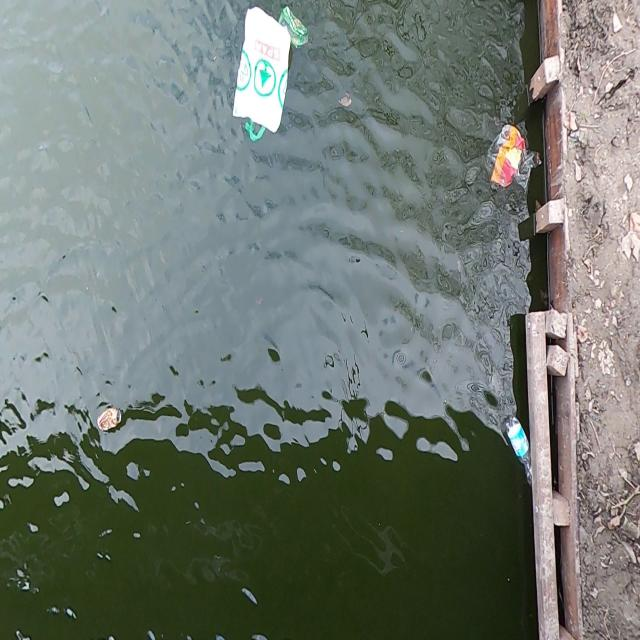Non plastique: (95, 404, 124, 439)
Sac plastique: (231, 3, 290, 144), (484, 120, 540, 197), (280, 0, 312, 44)
